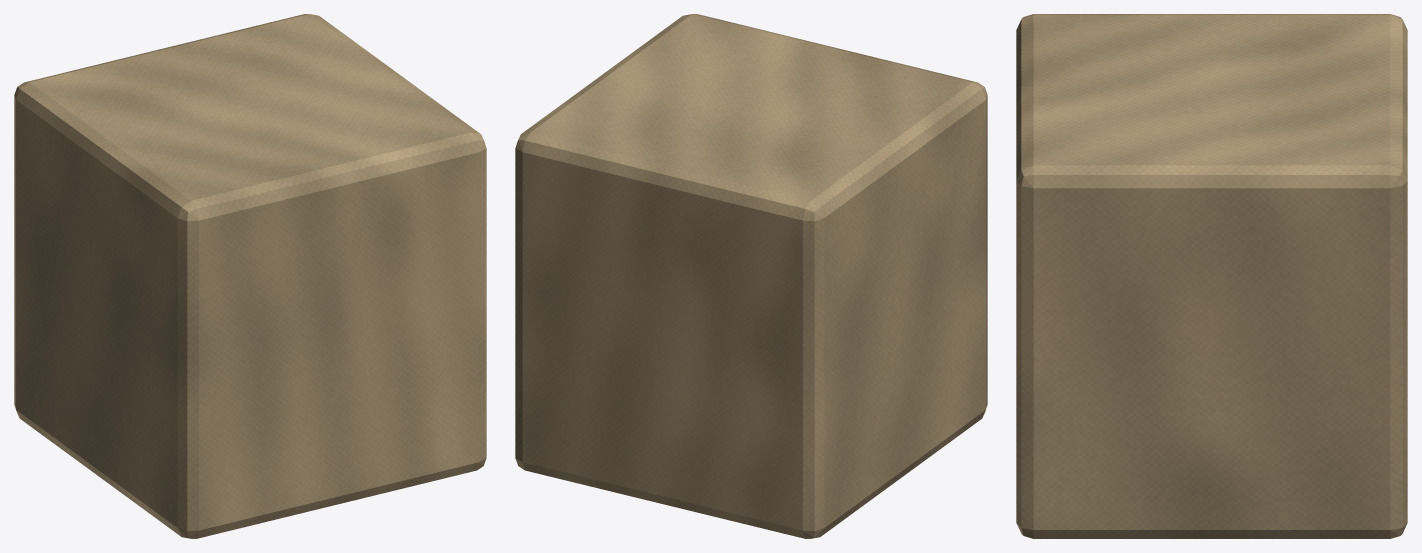
The model's file is LeftLowerArm.fbx.
3 views of the same model, side by side, from view 1: azimuth 30°, elevation 25°; view 2: azimuth 150°, elevation 25°; view 3: azimuth 270°, elevation 25° (orthographic). The views are drawn at different scales.
Visible parts, largest first — view 1: LeftLowerArm; view 2: LeftLowerArm; view 3: LeftLowerArm.
Boxes of the visible parts, <box> form: LeftLowerArm: <box>14,14,486,538</box>; LeftLowerArm: <box>515,14,987,538</box>; LeftLowerArm: <box>1016,14,1407,538</box>.
Size of the model in its own units: 1 by 1.05 by 1.
Materials: 1 (1 with a texture image).
